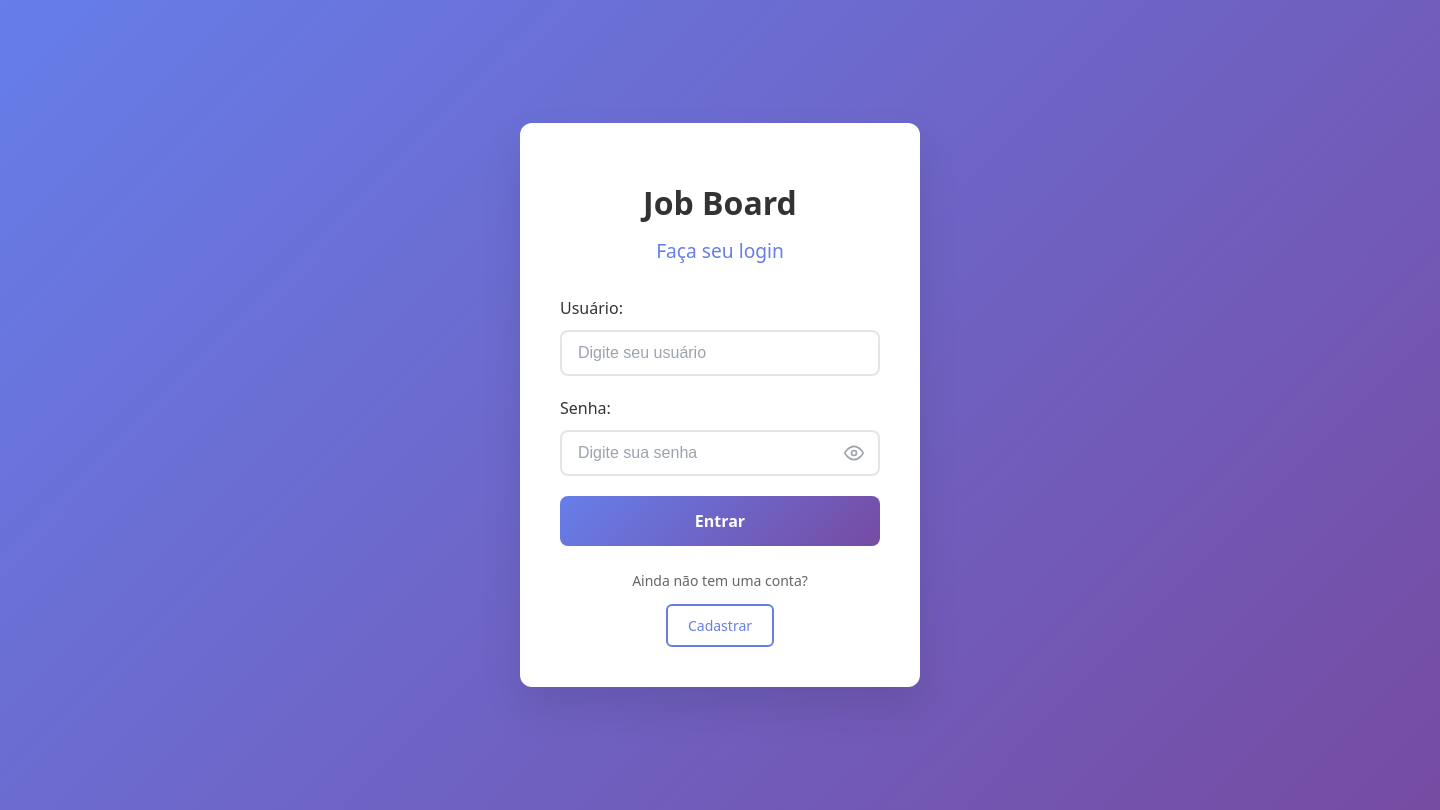
Test: Login › shows error when submitting with only username
Type "testuser" into the field labelled "Usuário:" at {"x": 720, "y": 353}, box [560, 330, 880, 376]
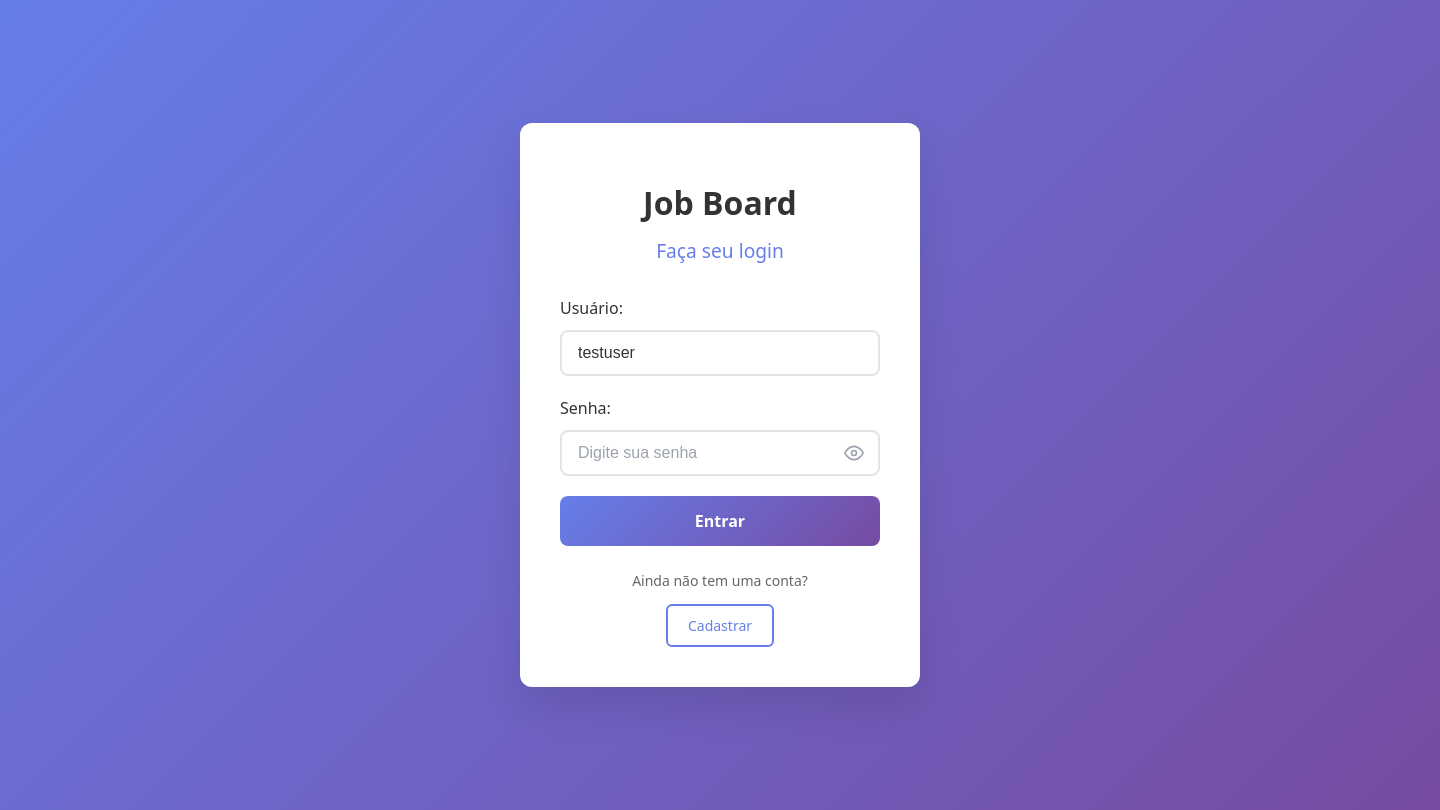
Click the button "Entrar" at {"x": 720, "y": 520}, box [560, 496, 880, 546]
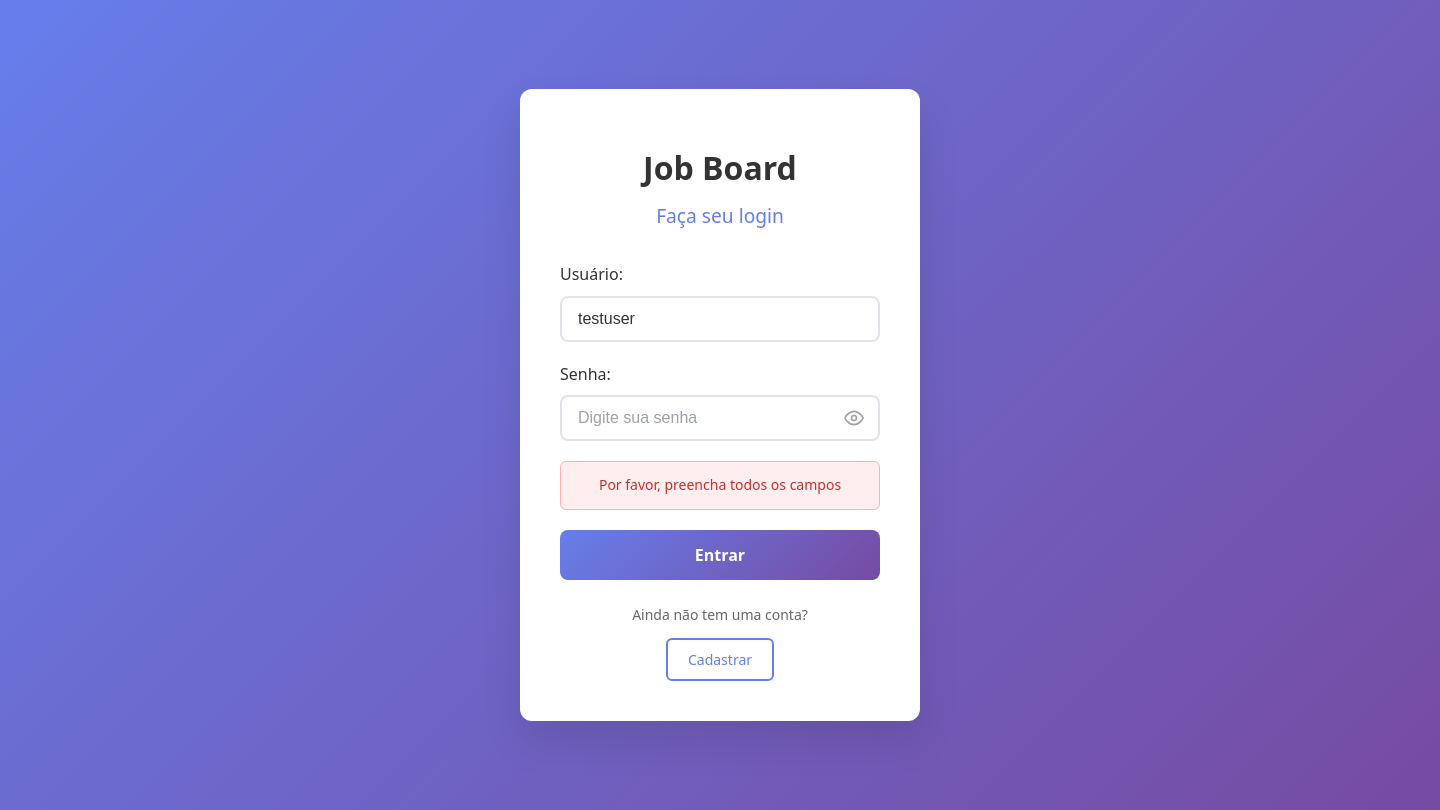
Result: the text "Por favor, preencha todos os campos" is shown at [560, 461, 880, 510]
